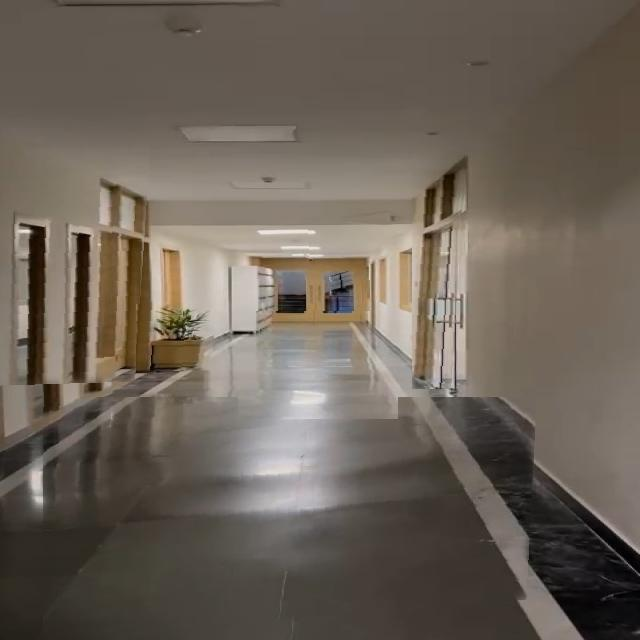door: (0, 142, 151, 386), (412, 138, 466, 390), (240, 228, 370, 320)
floor: (43, 397, 539, 640), (238, 311, 398, 419)
furniture: (136, 304, 217, 372)
